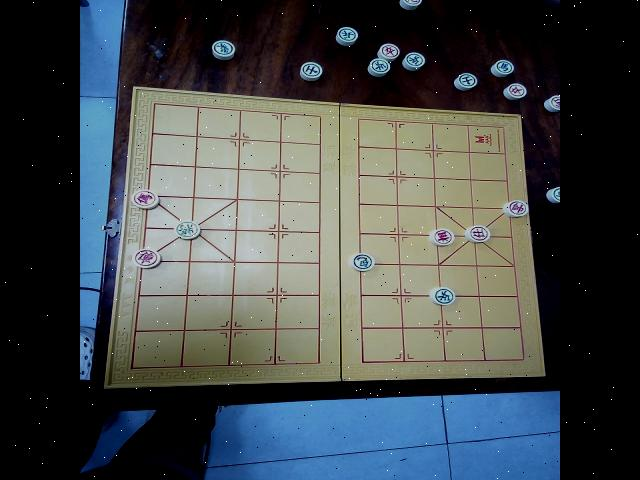piece: (132, 249, 160, 268), (131, 190, 158, 209), (428, 287, 455, 305), (174, 221, 199, 239), (211, 41, 235, 59), (428, 228, 453, 245), (502, 200, 527, 217), (350, 253, 373, 271), (502, 83, 526, 100), (464, 226, 489, 242), (335, 27, 357, 45), (367, 58, 389, 76), (299, 62, 321, 80), (402, 52, 424, 70), (454, 73, 477, 90), (490, 60, 513, 77), (376, 44, 399, 61), (543, 95, 559, 112), (398, 0, 421, 10), (546, 186, 560, 202)
